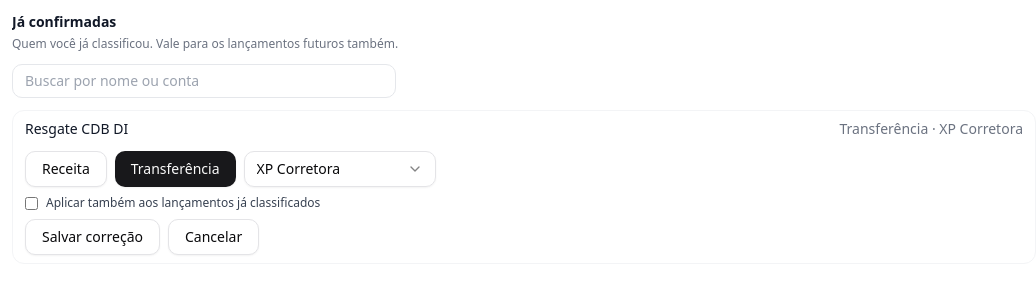
Test: RegrasConfirmadas › mudar a natureza sem escolher categoria mantém Salvar desabilitado (histórico desmarcado)
// direção 'in': só Receita e Transferência aparecem (ver naturezas no componente).
Click the button "Receita".
click(66, 169)  # box x1=25 y1=151 x2=107 y2=187
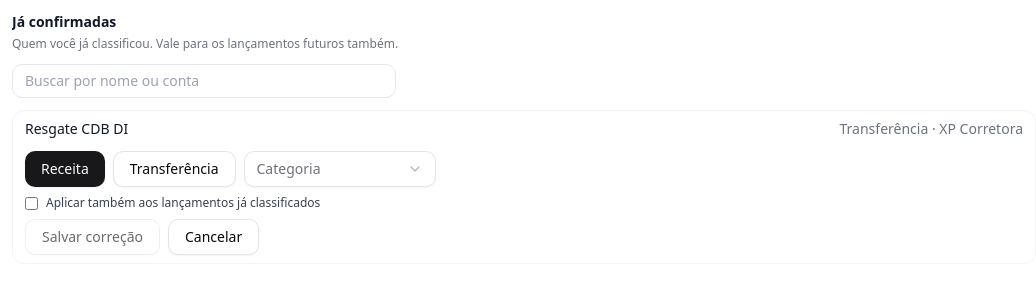
Check: the button "Salvar correção" is disabled, box x1=25 y1=219 x2=160 y2=255
